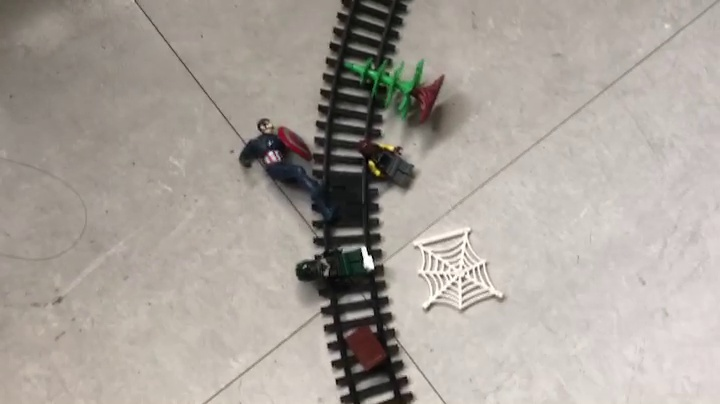box: (343, 326, 388, 376)
people: (238, 118, 339, 220), (295, 245, 376, 293), (354, 137, 420, 187)
tree: (346, 56, 451, 127)
web: (412, 225, 505, 315)
